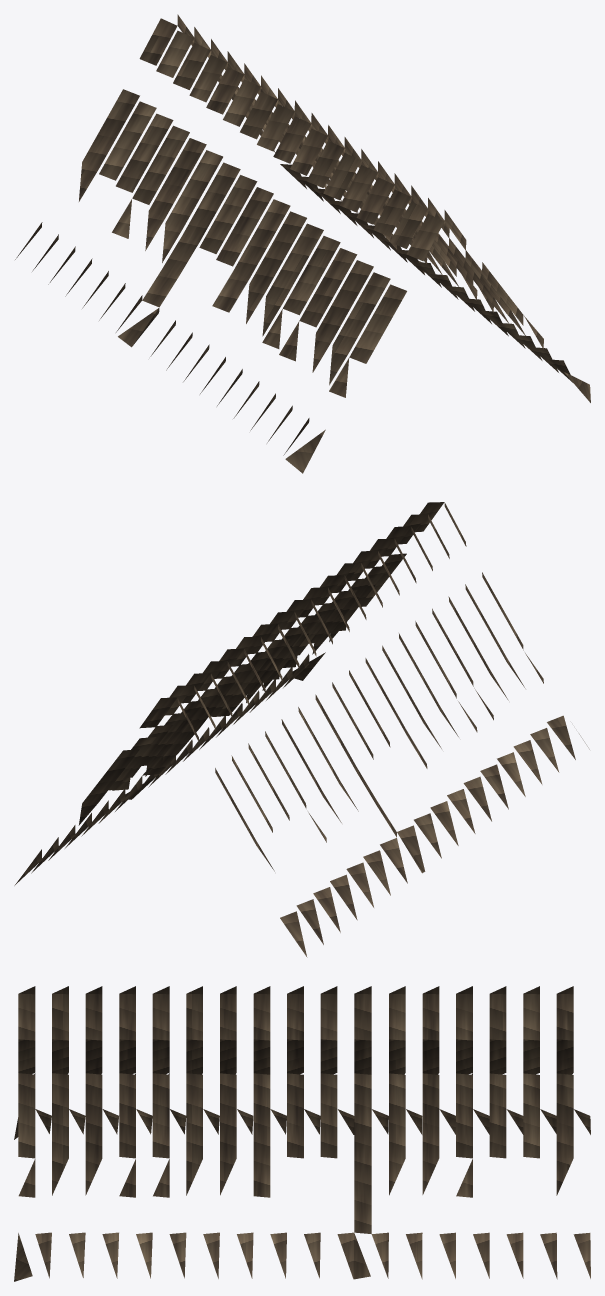
The model's file is Roof_Shingle_4x8_LOD2.gltf.
3 renders of one model, top to bottom at view 1: azimuth 30°, elevation 25°; view 2: azimuth 150°, elevation 25°; view 3: azimuth 270°, elevation 25°, orthographic.
Parts seen in each view (by area): view 1: Roof_Shingle_4x8_LOD2; view 2: Roof_Shingle_4x8_LOD2; view 3: Roof_Shingle_4x8_LOD2.
Boxes of the visible parts, bbox=[...] form: Roof_Shingle_4x8_LOD2: bbox=[15, 14, 590, 473]; Roof_Shingle_4x8_LOD2: bbox=[14, 502, 589, 957]; Roof_Shingle_4x8_LOD2: bbox=[14, 986, 590, 1281].
Size of the model in its own units: 5.51 by 3.79 by 8.97.
Materials: 1 (1 with a texture image).
